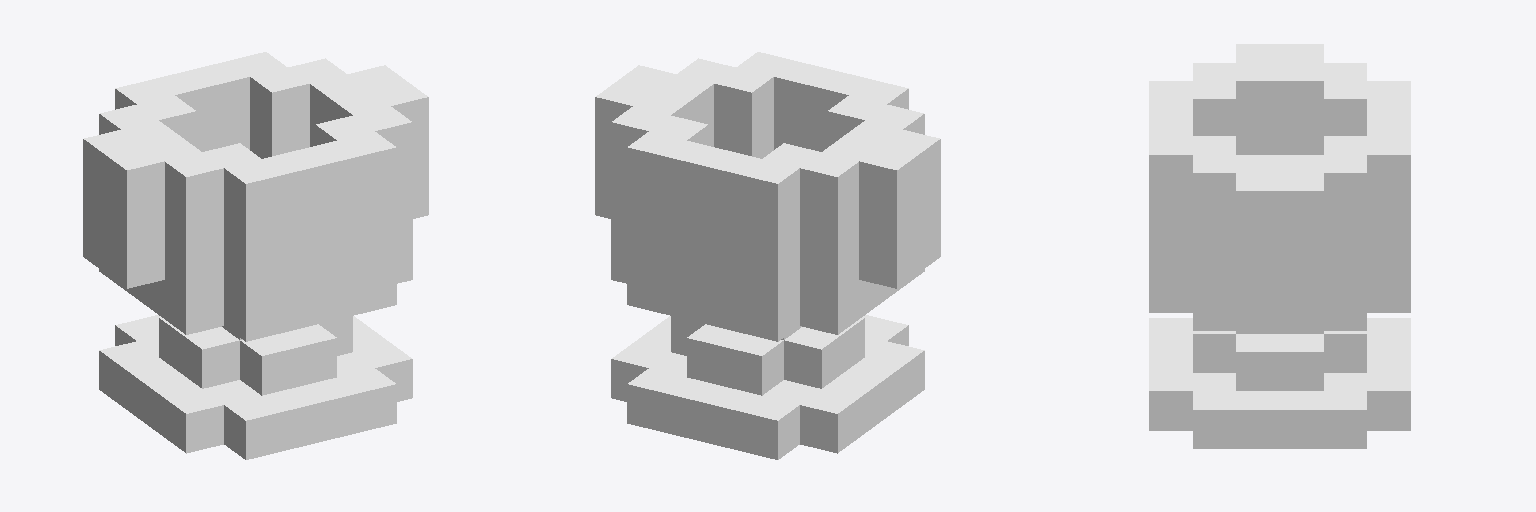
File: Trophy.obj
3 renders of one model, left to right at view 1: azimuth 30°, elevation 25°; view 2: azimuth 150°, elevation 25°; view 3: azimuth 270°, elevation 25°, orthographic.
Parts seen in each view (by area): view 1: object 1; view 2: object 1; view 3: object 1.
Part boxes in pixels (left/top/right/bottom): object 1: left=83, top=52, right=428, bottom=459; object 1: left=595, top=52, right=940, bottom=459; object 1: left=1149, top=44, right=1410, bottom=448.
Size of the model in its own units: 0.8 by 0.7 by 0.6.